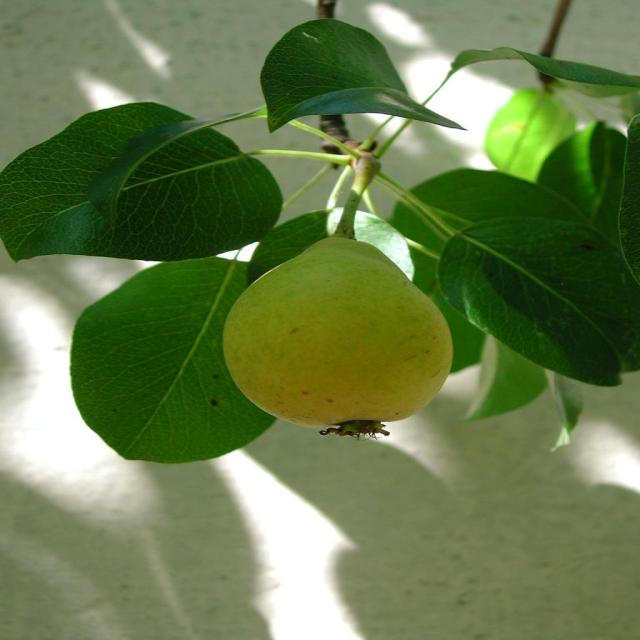pear: (226, 234, 452, 434)
